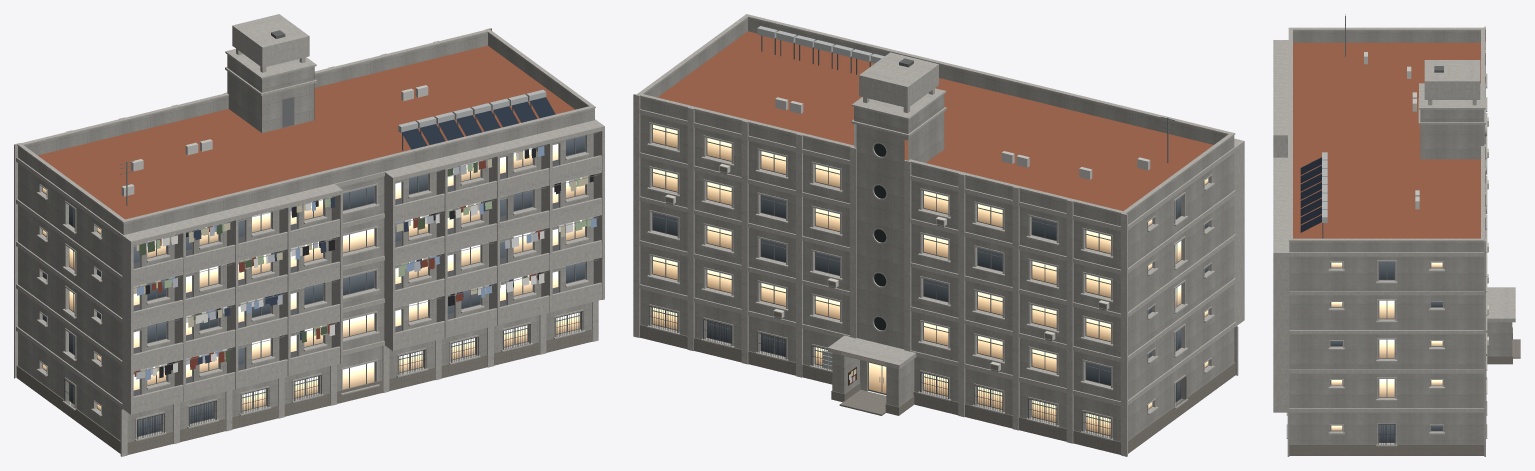
File: campus_male1.glb
3 views of the same model, side by side, from view 1: azimuth 30°, elevation 25°; view 2: azimuth 150°, elevation 25°; view 3: azimuth 270°, elevation 25° (orthographic). The views are drawn at different scales.
Visible parts, largest first — view 1: m1_paint, m1_wall, wz_vc_m1, m1_glass, m1_base; view 2: m1_wall, m1_paint, wz_vc_m1, m1_glass, m1_base; view 3: m1_wall, wz_vc_m1, m1_paint, m1_base, m1_glass.
Part boxes in pixels (left/top/right/bottom): m1_paint: left=14, top=14, right=604, bottom=456; m1_wall: left=18, top=32, right=594, bottom=441; wz_vc_m1: left=38, top=30, right=600, bottom=439; m1_glass: left=43, top=135, right=584, bottom=436; m1_base: left=16, top=329, right=592, bottom=454; m1_wall: left=640, top=18, right=1234, bottom=441; m1_paint: left=633, top=14, right=1244, bottom=456; wz_vc_m1: left=649, top=26, right=1213, bottom=438; m1_glass: left=653, top=124, right=1208, bottom=435; m1_base: left=640, top=324, right=1235, bottom=454; m1_wall: left=1289, top=30, right=1512, bottom=444; wz_vc_m1: left=1293, top=14, right=1488, bottom=444; m1_paint: left=1273, top=26, right=1515, bottom=456; m1_base: left=1289, top=327, right=1520, bottom=455; m1_glass: left=1331, top=261, right=1442, bottom=442.
Size of the model in its own units: 36.45 by 22.3 by 17.75.
Materials: 7 (3 with a texture image).
